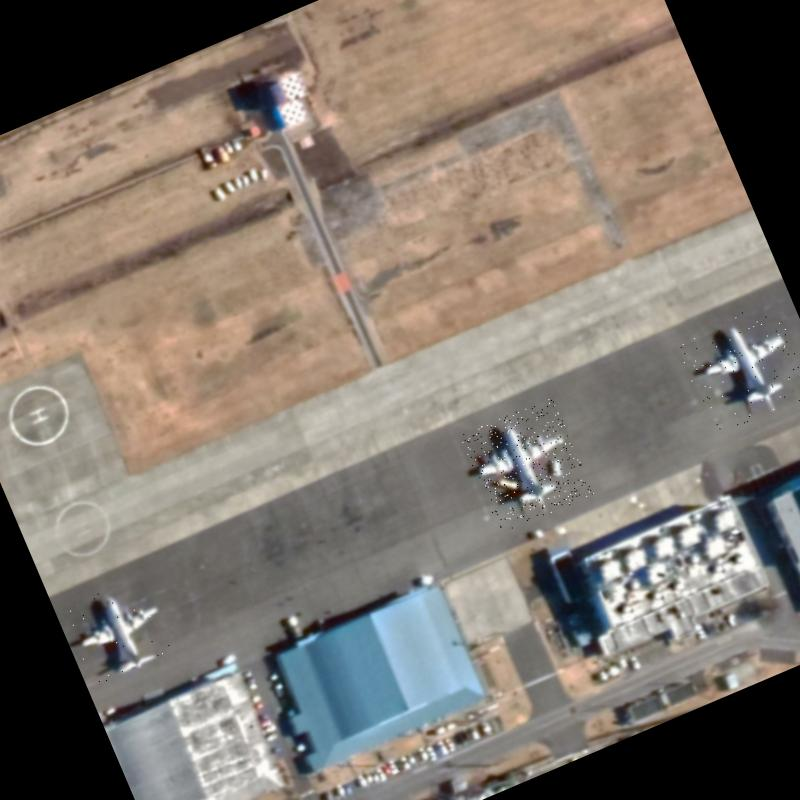A9: (460, 396, 594, 534), (674, 299, 800, 437), (61, 572, 181, 688)
